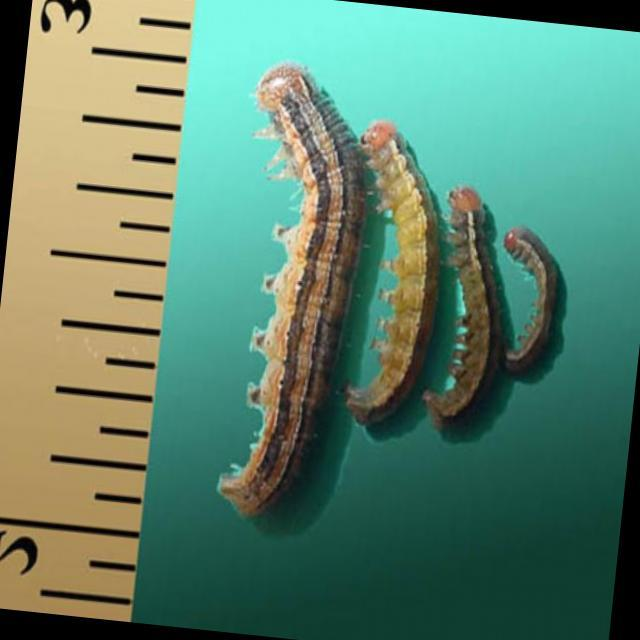Plaga: (184, 49, 393, 537), (329, 104, 457, 444), (410, 175, 520, 459), (488, 220, 583, 382)
